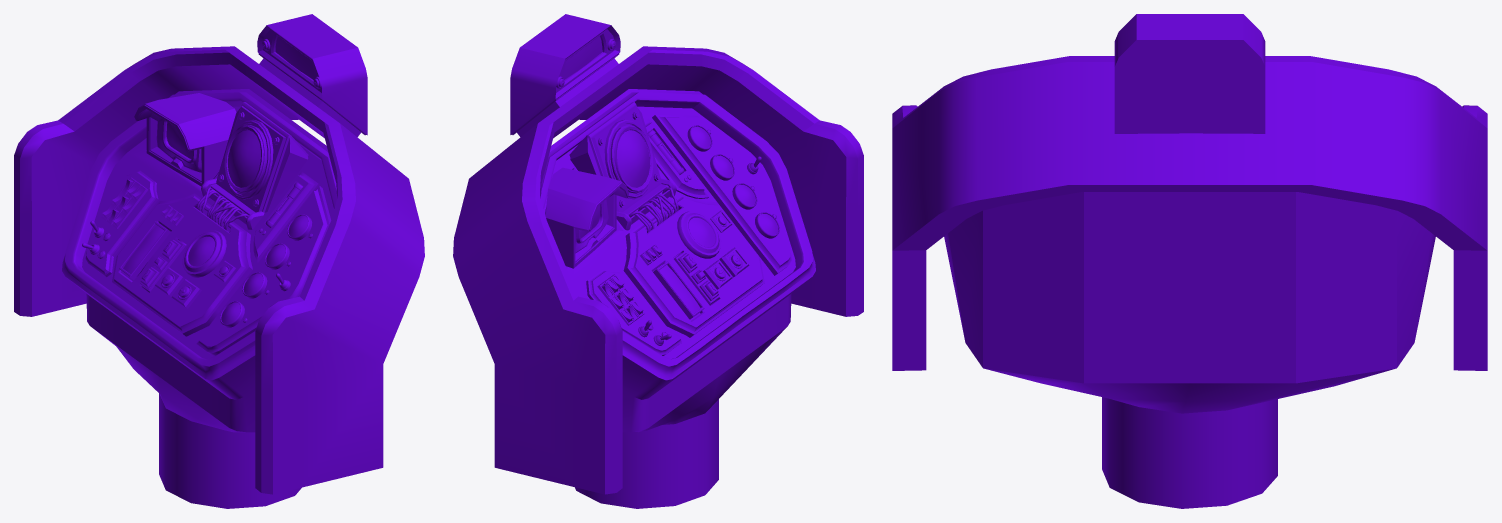
The model's file is MainControlPanel.fbx.
3 views of the same model, side by side, from view 1: azimuth 30°, elevation 25°; view 2: azimuth 150°, elevation 25°; view 3: azimuth 270°, elevation 25° (orthographic). The views are drawn at different scales.
Visible parts, largest first — view 1: MainConsole_Geo, RadarGlass_Geo, FrequencyTransmitterGlass_Geo, O2ScrubberGlass_Geo, RotationGlass_Geo; view 2: MainConsole_Geo, RadarGlass_Geo, FrequencyTransmitterGlass_Geo, O2ScrubberGlass_Geo, RotationGlass_Geo; view 3: MainConsole_Geo.
Part boxes in pixels (bbox=[...]): MainConsole_Geo: bbox=[14, 14, 424, 508]; RadarGlass_Geo: bbox=[228, 130, 260, 187]; FrequencyTransmitterGlass_Geo: bbox=[275, 36, 314, 79]; O2ScrubberGlass_Geo: bbox=[123, 225, 164, 273]; RotationGlass_Geo: bbox=[188, 236, 214, 266]; MainConsole_Geo: bbox=[453, 14, 863, 508]; RadarGlass_Geo: bbox=[617, 130, 649, 187]; FrequencyTransmitterGlass_Geo: bbox=[563, 36, 602, 79]; O2ScrubberGlass_Geo: bbox=[659, 265, 700, 313]; RotationGlass_Geo: bbox=[688, 217, 715, 247]; MainConsole_Geo: bbox=[892, 14, 1487, 508].
Bounding box in the file's own units: 90.5 × 164 × 181.
